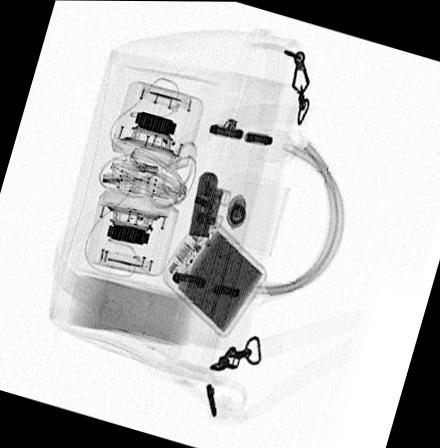Powerbank: (163, 207, 268, 339)
